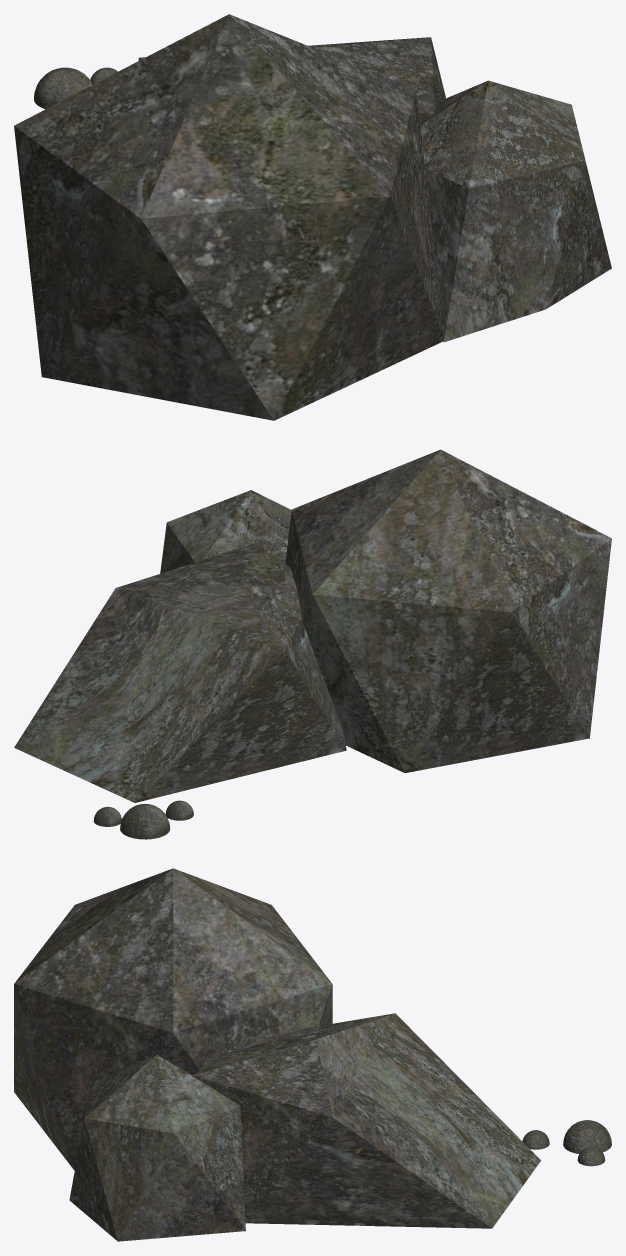
Rendered from rocks.fbx.
3 views of the same model, one above another, from view 1: azimuth 30°, elevation 25°; view 2: azimuth 150°, elevation 25°; view 3: azimuth 270°, elevation 25° (orthographic). The views are drawn at different scales.
Visible parts, largest first — view 1: Sphere.001; view 2: Sphere.001; view 3: Sphere.001.
Boxes of the visible parts, x1,y1,x2,y2 form: Sphere.001: (14,14,611,420); Sphere.001: (14,449,611,839); Sphere.001: (14,868,611,1241).
Bounding box in the file's own units: 169 × 96.59 × 212.
Materials: 2 (2 with a texture image).
